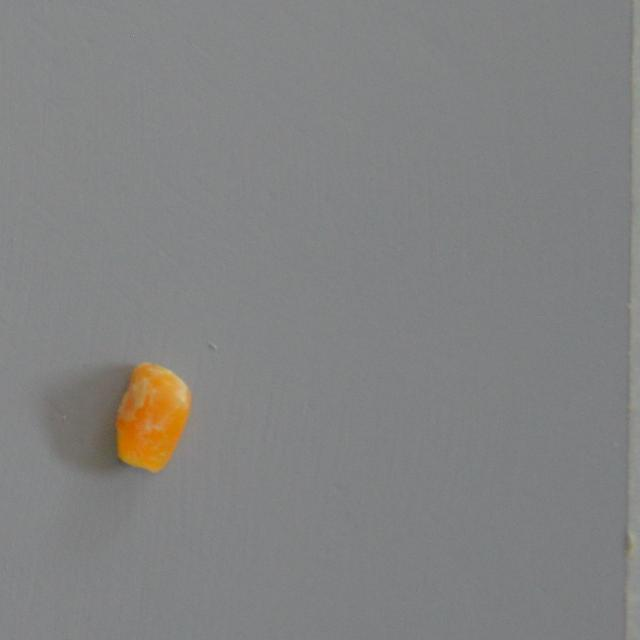pelicula: (111, 360, 194, 474)
